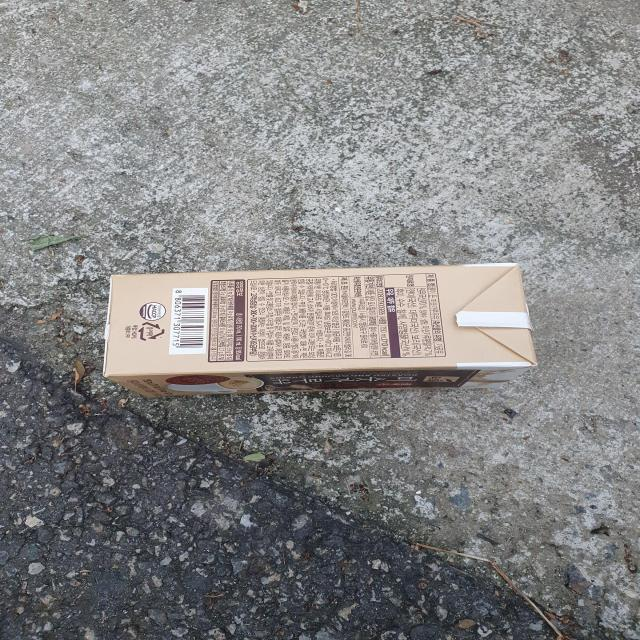paperpack: (102, 264, 538, 397)
